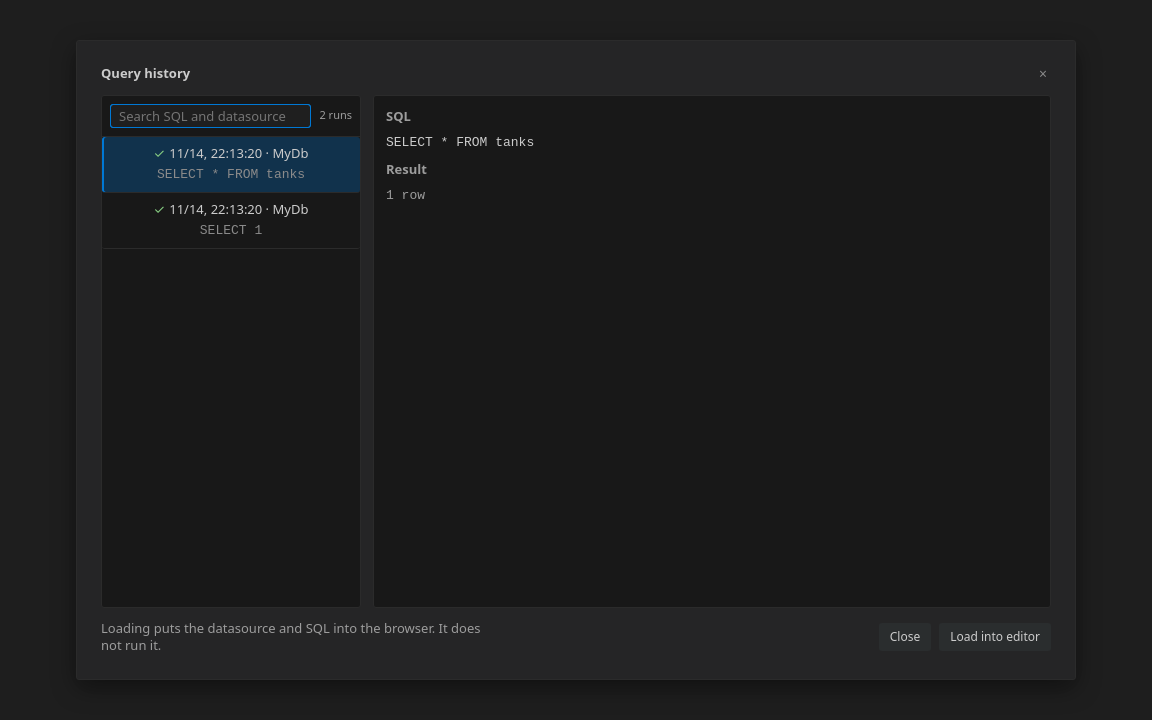
Scenario: QueryHistoryDialog › filters the list and says how many of how many are left
Check: the text "SELECT * FROM tanks" below "2 runs" is shown, box [157, 167, 305, 182]
Type "tanks" into the search field named "Search the query history" at (211, 116), box [110, 104, 311, 128]
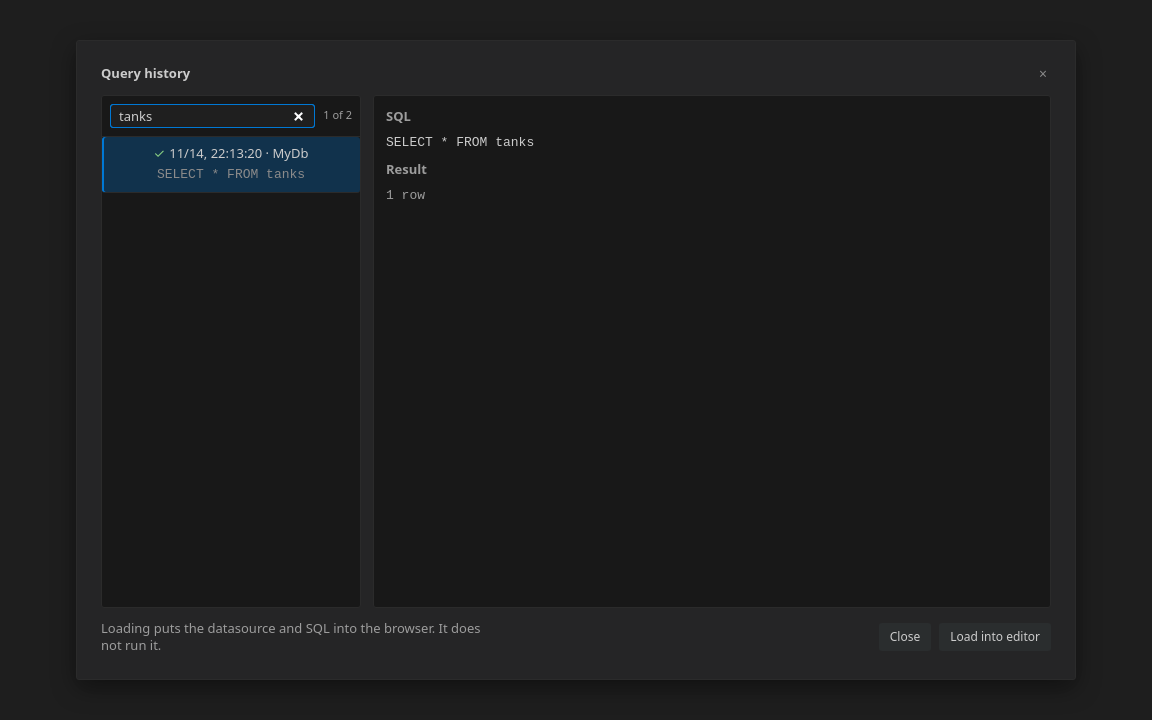
Check: the button "SELECT 1" is gone
Check: the text "1 of 2" is shown, box [323, 108, 352, 123]
